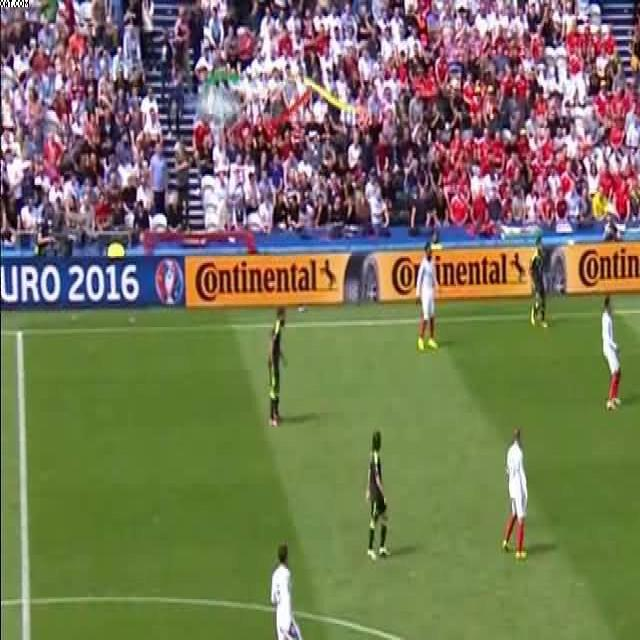player-white: (269, 542, 325, 640), (502, 428, 528, 560), (366, 430, 391, 559), (600, 296, 622, 412), (267, 308, 288, 427), (416, 241, 438, 349), (528, 238, 550, 328)
